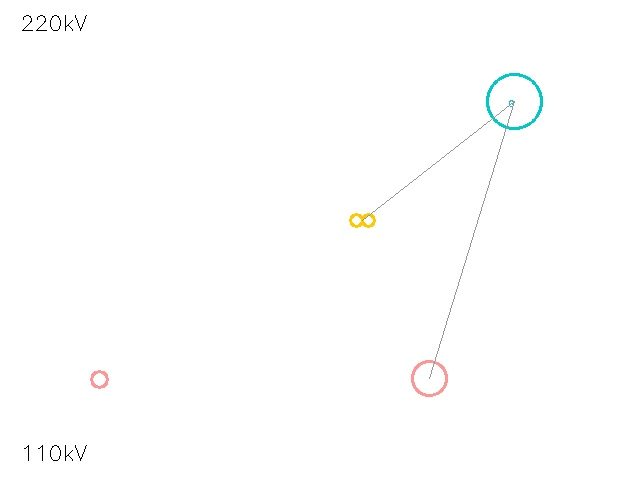feeder_terminal: (83, 363, 115, 395)
generator: (487, 74, 541, 128)
transformer_2w: (347, 205, 377, 235)
voltage_transformer: (395, 344, 463, 412)
